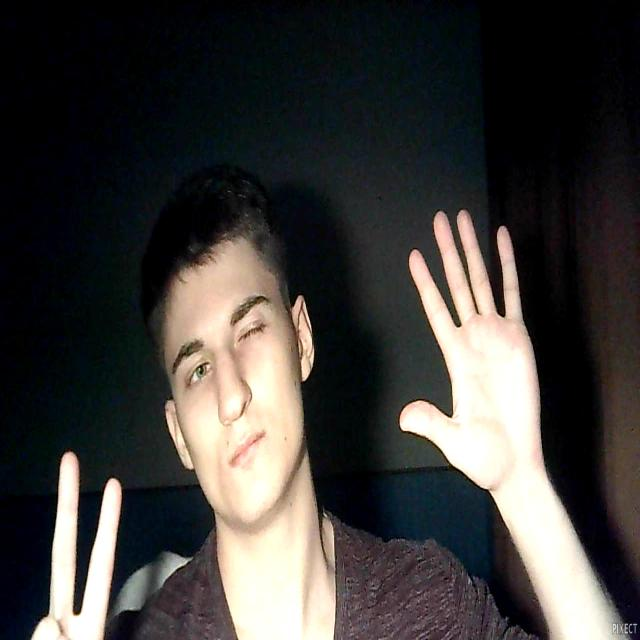Eyeclosed: (237, 318, 264, 348)
Eyeopen: (187, 358, 211, 388)
